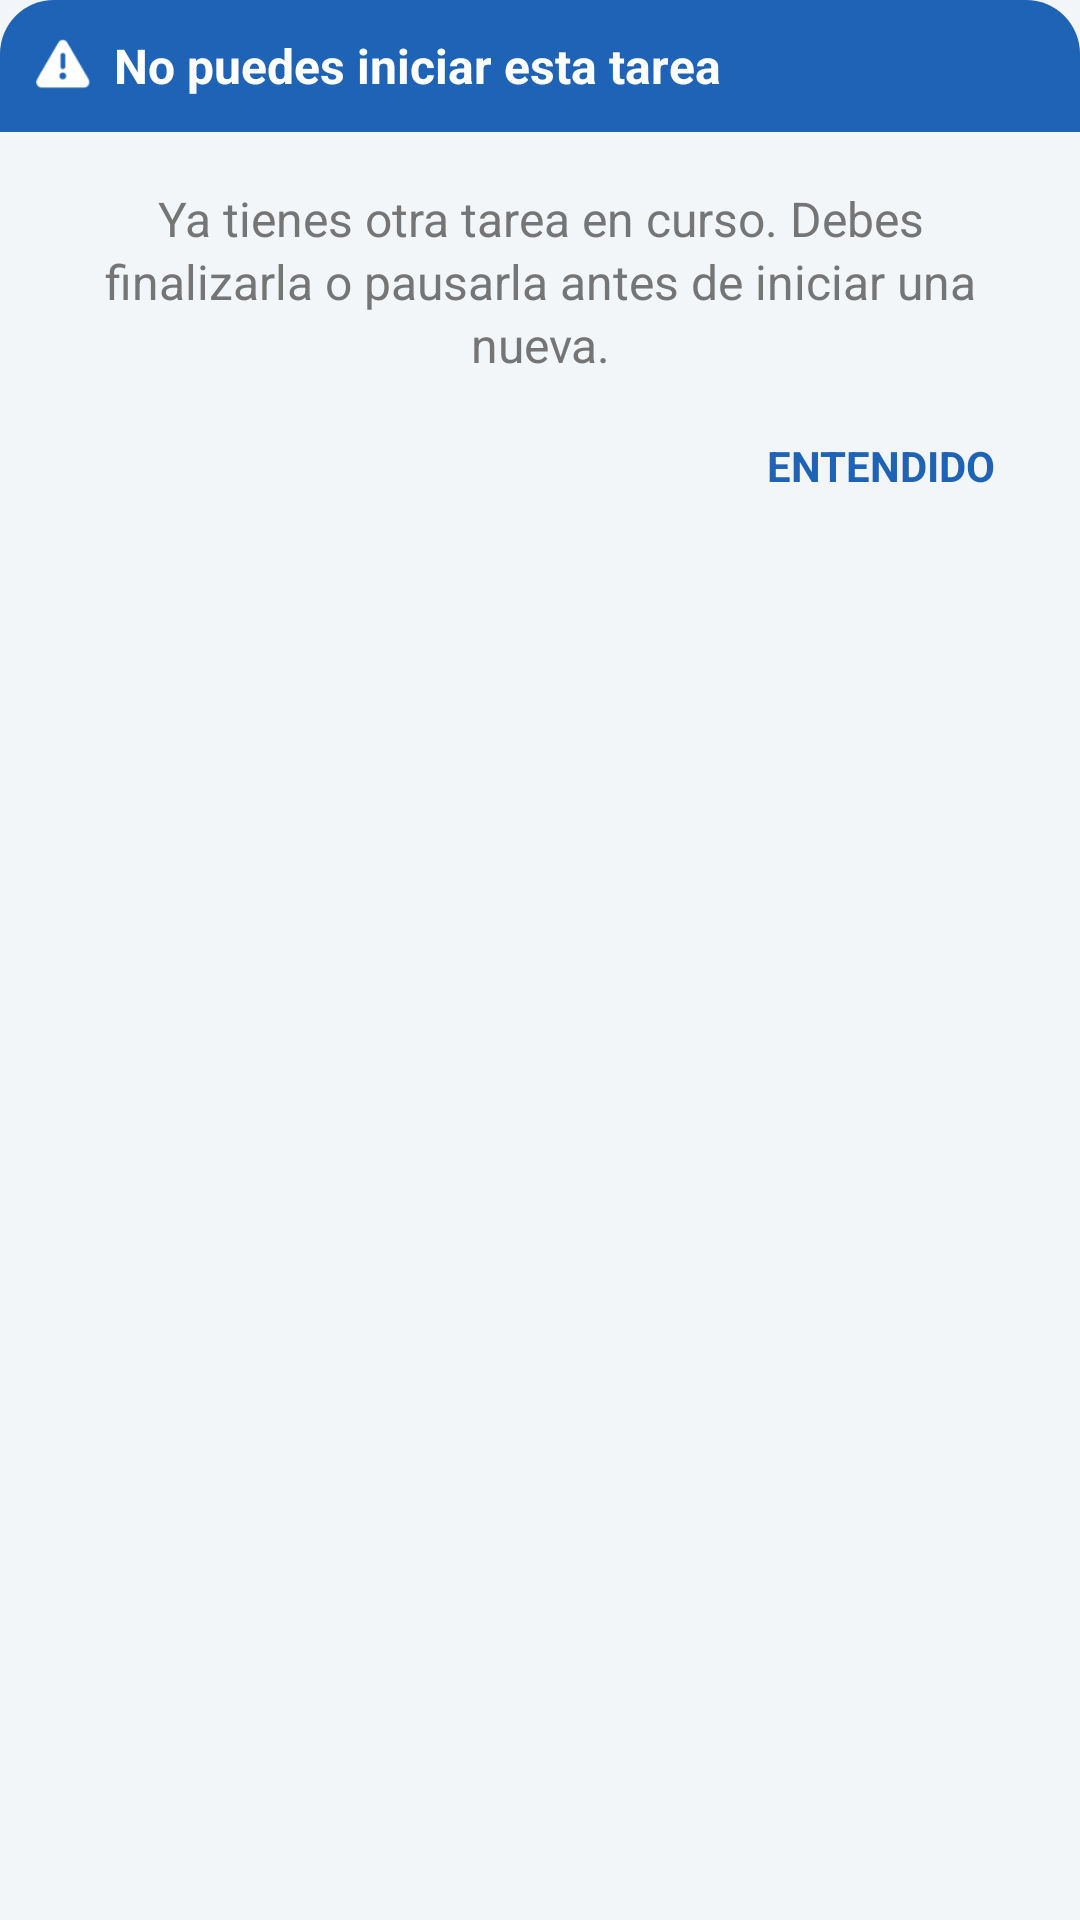

Named icons in this screenshot (1080w x 1920h) and their bounding boxes, [x1=x1, y1=y1, x2=x2, y2=y2]:
alert: [x1=36, y1=39, x2=90, y2=88]
